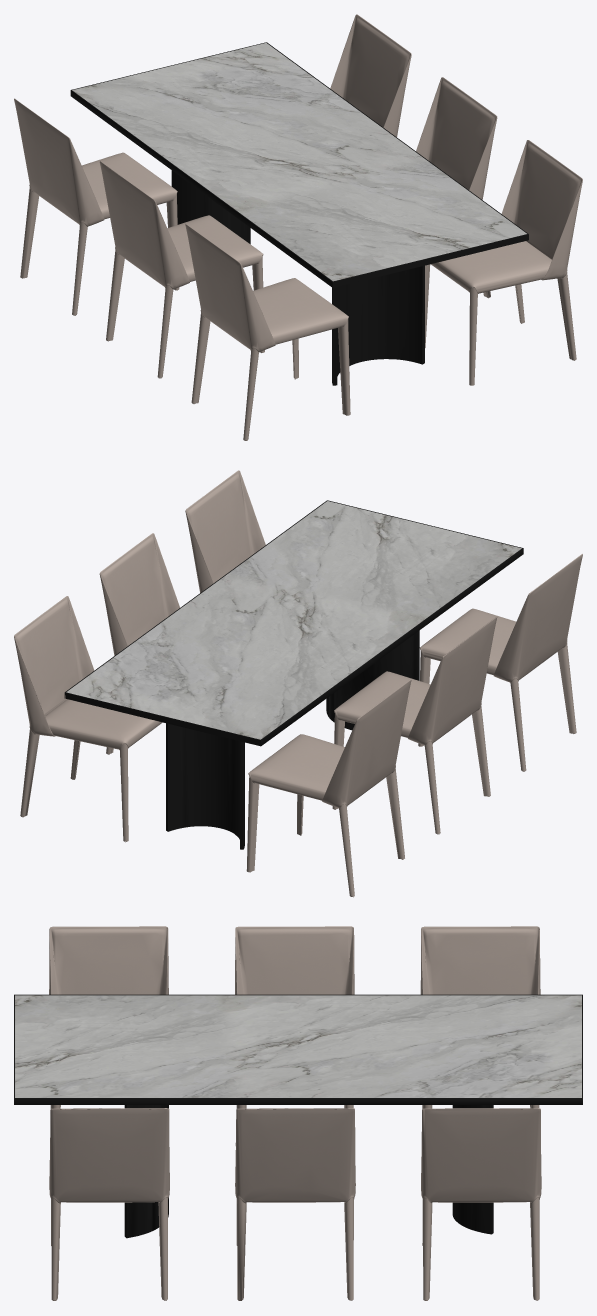
The picture shows the model from 3 angles, top to bottom: view 1: azimuth 30°, elevation 25°; view 2: azimuth 150°, elevation 25°; view 3: azimuth 270°, elevation 25°; orthographic projection. The views are drawn at different scales.
Visible parts, largest first — view 1: SK_Solid_1, SK_Solid_3, SK_Solid_4; view 2: SK_Solid_1, SK_Solid_3, SK_Solid_4; view 3: SK_Solid_1, SK_Solid_3, SK_Solid_4.
Part boxes in pixels (x1,y1,x2,y2): SK_Solid_1: [14, 14, 582, 440]; SK_Solid_3: [72, 43, 526, 281]; SK_Solid_4: [70, 42, 528, 385]; SK_Solid_1: [14, 470, 582, 896]; SK_Solid_3: [66, 501, 521, 739]; SK_Solid_4: [64, 500, 523, 849]; SK_Solid_1: [49, 926, 541, 1300]; SK_Solid_3: [15, 995, 581, 1097]; SK_Solid_4: [14, 994, 582, 1238].
Bounding box in the file's own units: 1.75 × 0.8792 × 2.31.
4 materials, 3 textured.
